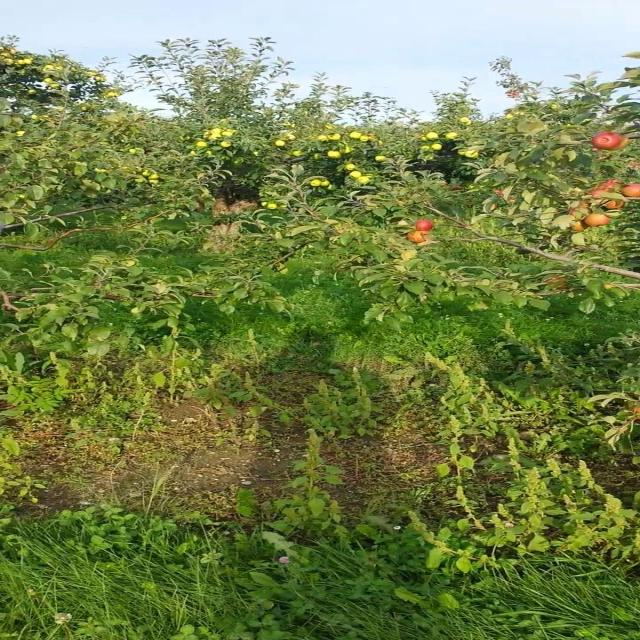apple: (596, 136, 619, 149), (589, 216, 612, 228), (547, 276, 569, 287), (625, 184, 639, 199), (604, 200, 626, 209), (618, 136, 633, 149), (412, 232, 427, 244), (419, 220, 434, 232), (604, 180, 620, 190), (575, 220, 587, 232), (577, 208, 588, 215), (589, 192, 604, 197), (582, 204, 590, 208)
